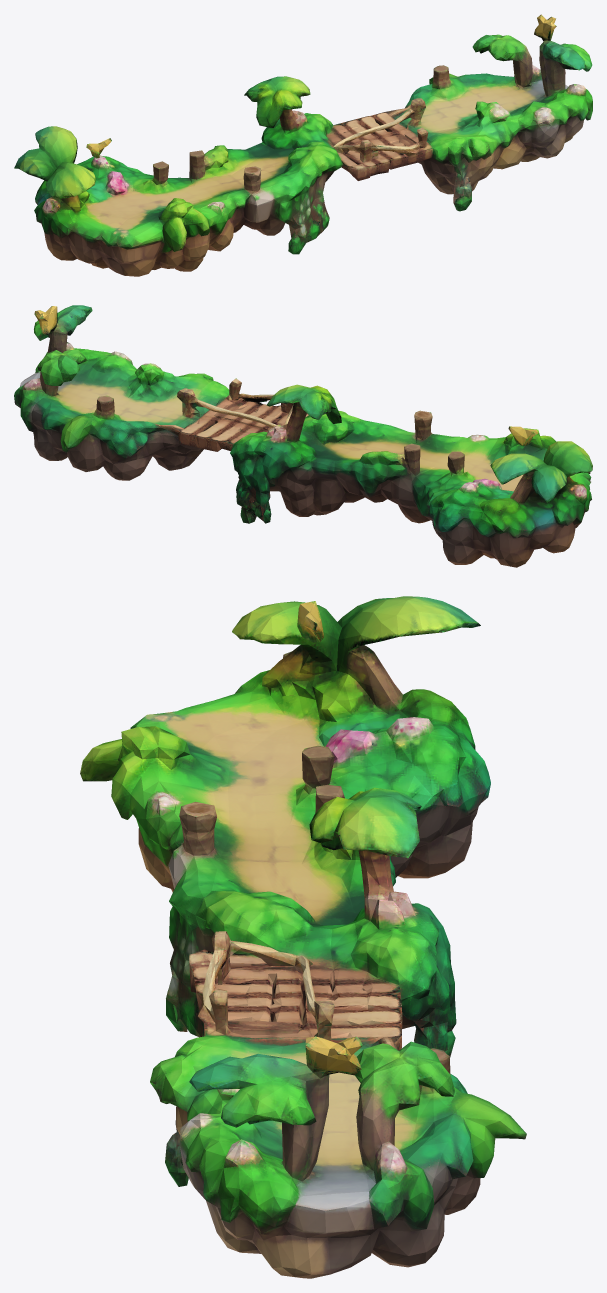
File: jungle_road.glb
3 renders of one model, top to bottom at view 1: azimuth 30°, elevation 25°; view 2: azimuth 150°, elevation 25°; view 3: azimuth 270°, elevation 25°, orthographic. The views are drawn at different scales.
Visible parts, largest first — view 1: world; view 2: world; view 3: world.
Part boxes in pixels (bbox=[...]): world: bbox=[14, 14, 592, 276]; world: bbox=[14, 305, 592, 567]; world: bbox=[80, 596, 526, 1278].
Size of the model in its own units: 0.9992 by 0.2466 by 0.3609.
1 material, 1 textured.
